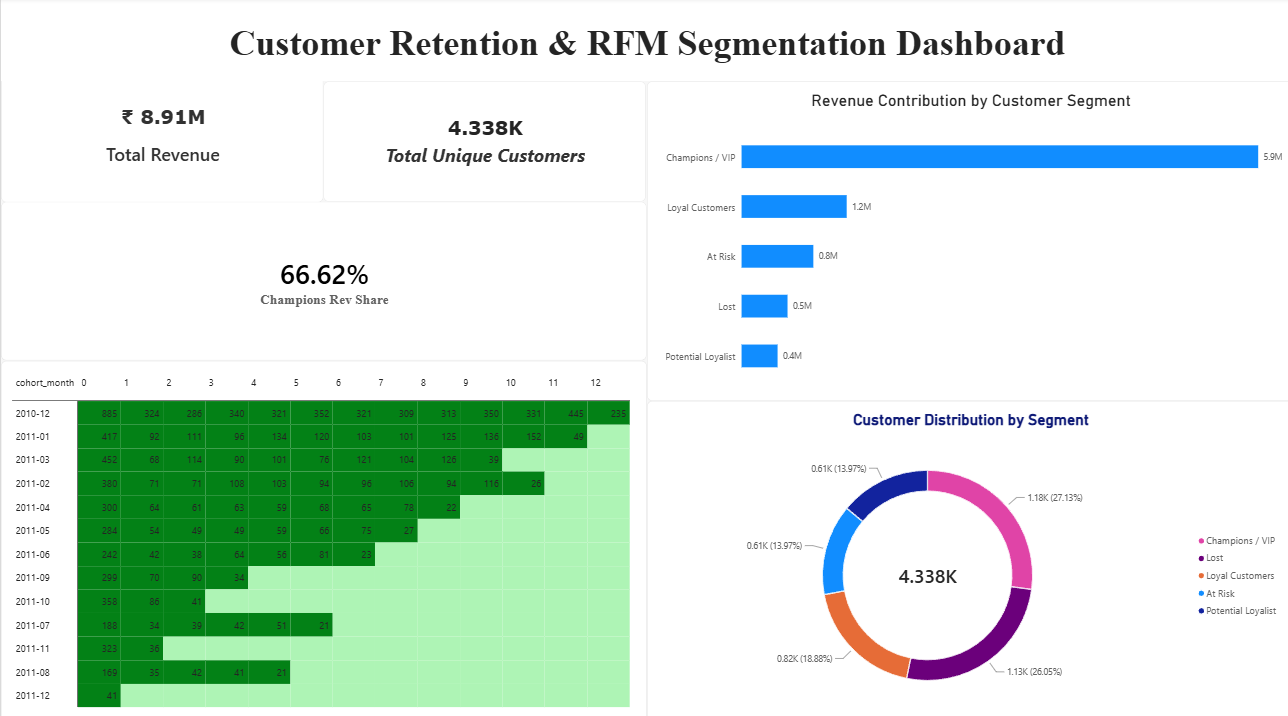

This screenshot's page, from the dashboard's own definition file:
{"tool":"powerbi","page":{"name":"Page 1","canvas":[1920,1080],"ordinal":0},"visuals":[{"type":"pivotTable","fields":{"Columns":["cohort_retention.cohort_index"],"Rows":["cohort_retention.cohort_month"],"Values":["Sum(cohort_retention.active_customers)"]},"box":[0,540.9,959.1,538.6],"z":0},{"type":"donutChart","title":"Customer Distribution by Segment","fields":{"Category":["rfm_segments.customer_segment"],"Y":["Count(rfm_segments.customer_id)"]},"box":[959.1,600,961.4,479.5],"z":1000},{"type":"clusteredBarChart","title":"Revenue Contribution by Customer Segment","fields":{"Category":["rfm_segments.customer_segment"],"Y":["Sum(rfm_segments.total_spend)"]},"box":[959.1,125,961.4,475],"z":2000},{"type":"cardVisual","fields":{"Data":["Sum(rfm_segments.total_spend)"]},"box":[0,104.5,479.5,200],"z":3000},{"type":"cardVisual","fields":{"Data":["Count(rfm_segments.customer_id)"]},"box":[479.5,125,479.5,179.5],"z":4000},{"type":"textbox","box":[0,0,1920.5,125],"z":5000},{"type":"cardVisual","fields":{"Data":["rfm_segments.Champions Rev Share"]},"box":[0,304.5,959.1,236.4],"z":6000}]}

Visuals, with their boxes in screenshot pixels (x1, y1, x2, y2), scaled from the page's 1920x1080 canvas onto the 1288x716 screenshot:
pivotTable - cohort_retention.cohort_index x cohort_retention.cohort_month: rect(0, 359, 643, 715)
"Customer Distribution by Segment" donutChart: rect(643, 398, 1287, 715)
"Revenue Contribution by Customer Segment" clusteredBarChart: rect(643, 83, 1287, 398)
cardVisual - Sum(rfm_segments.total_spend): rect(0, 69, 322, 202)
cardVisual - Count(rfm_segments.customer_id): rect(322, 83, 643, 202)
textbox: rect(0, 0, 1287, 83)
cardVisual - rfm_segments.Champions Rev Share: rect(0, 202, 643, 359)
